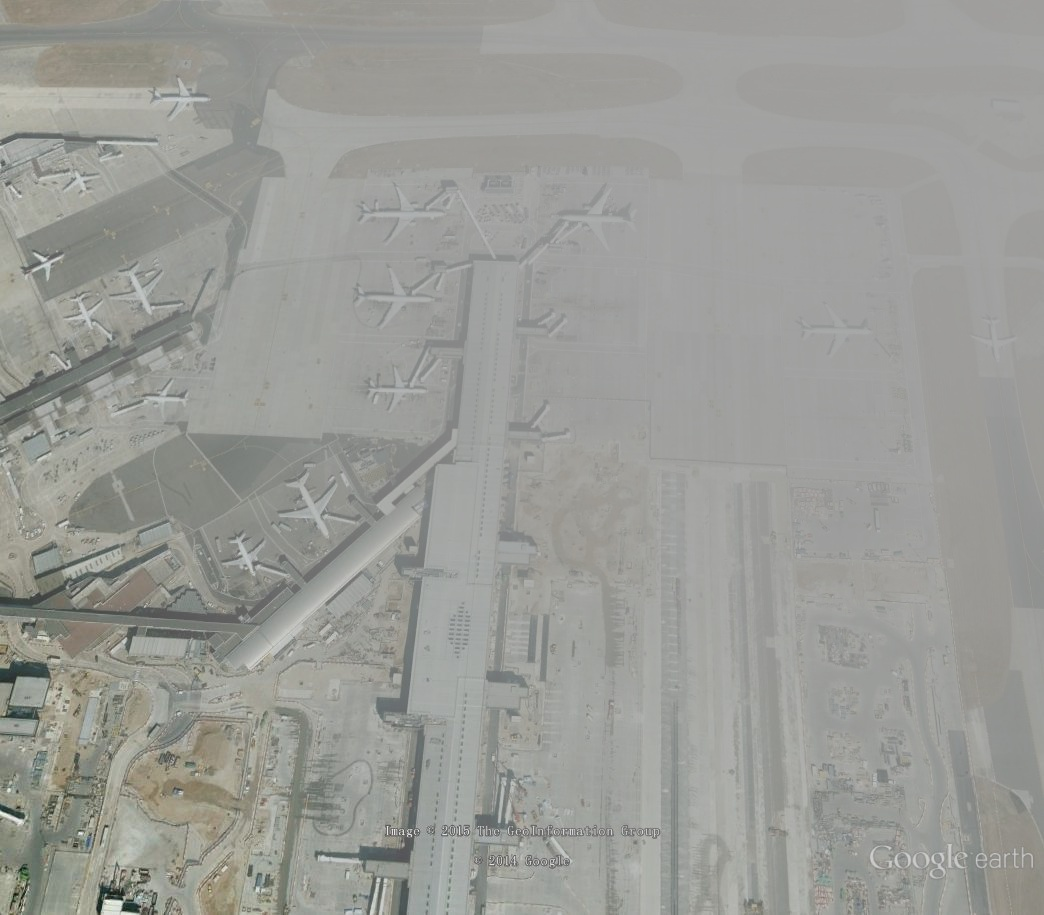aircraft: (355, 181, 450, 251), (349, 264, 438, 335), (556, 183, 644, 254), (799, 301, 883, 362), (277, 470, 341, 546), (108, 261, 168, 320), (364, 365, 431, 417), (965, 312, 1023, 370), (148, 76, 214, 125), (218, 530, 270, 580), (139, 376, 192, 425), (60, 291, 108, 335), (20, 252, 69, 286), (62, 168, 104, 199)
